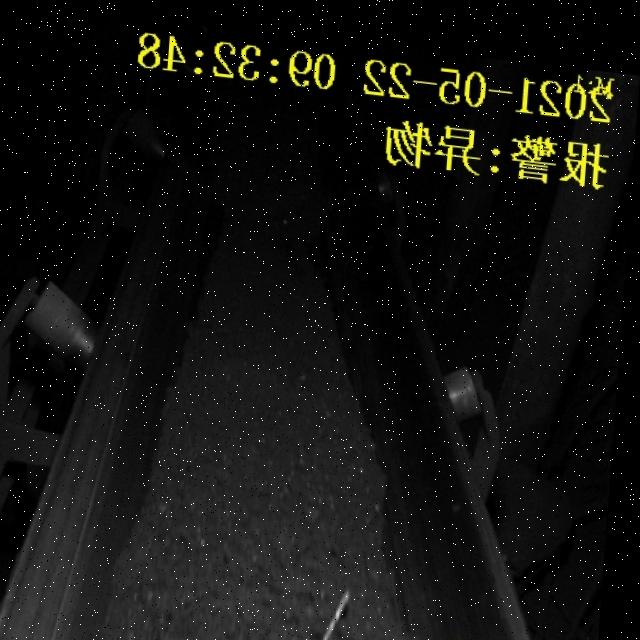bolt: (317, 570, 364, 640)
